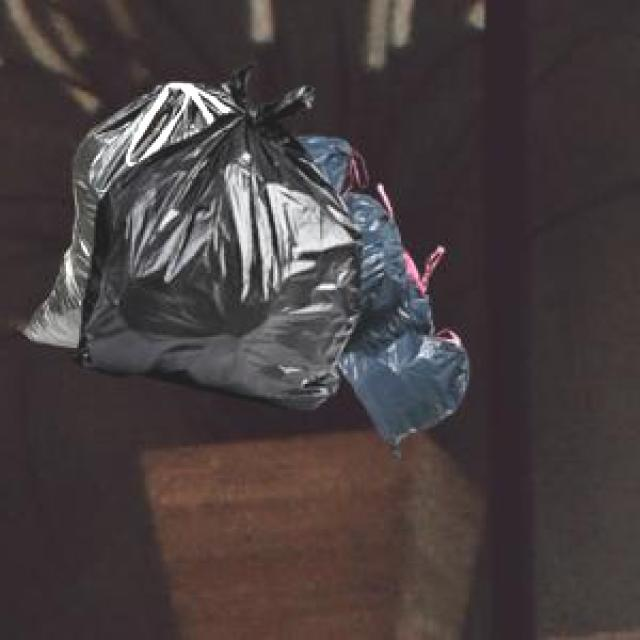Trashbag: (77, 116, 341, 413), (332, 335, 470, 436), (356, 242, 433, 342), (348, 190, 405, 246)
